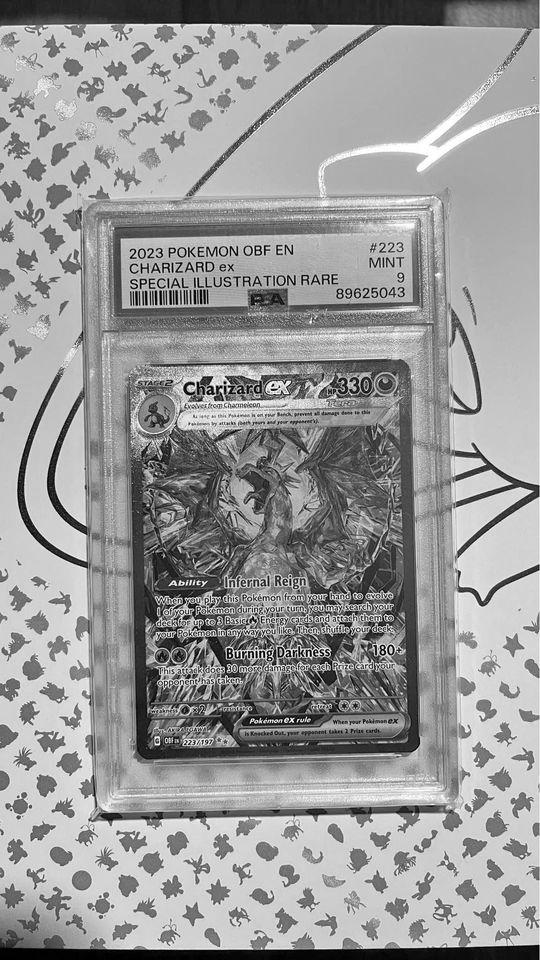card: (129, 361, 424, 765)
